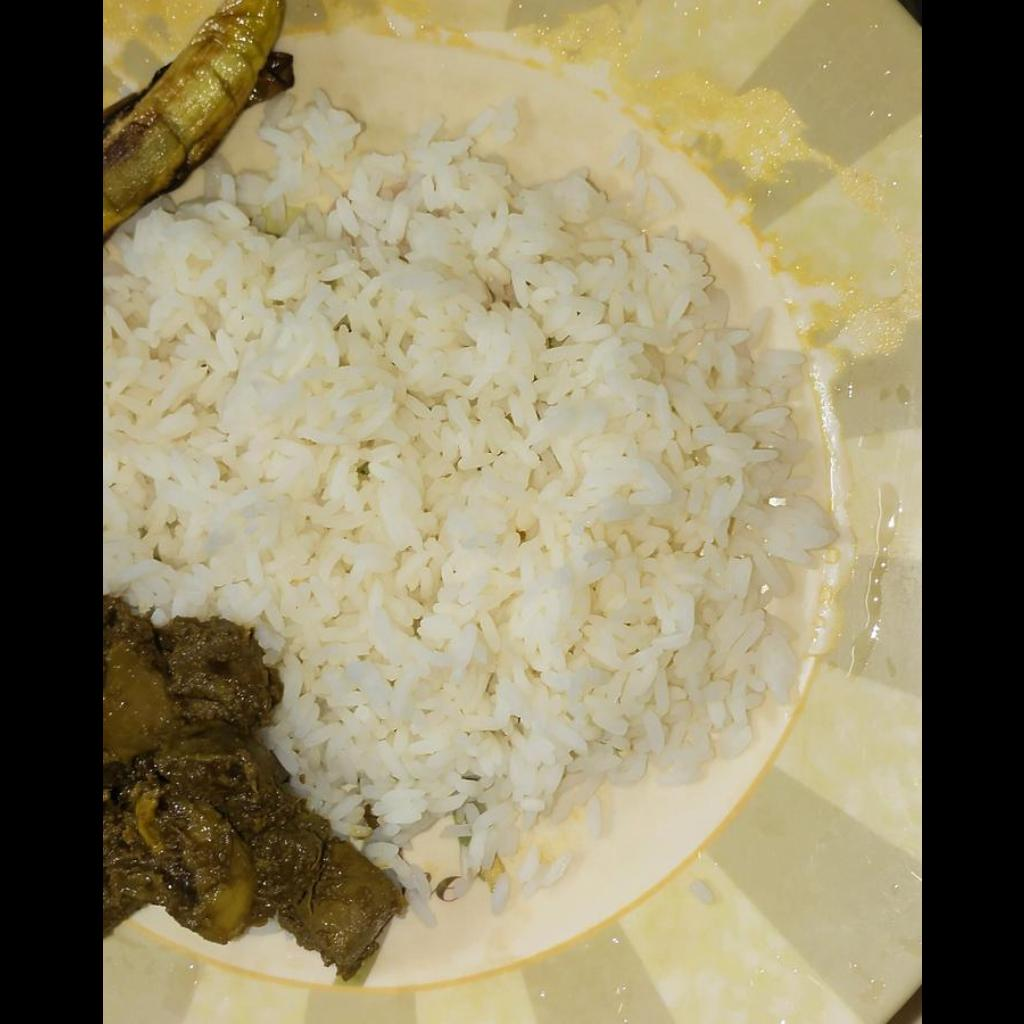beef: (102, 603, 404, 984)
potol: (103, 2, 295, 219)
rice: (102, 102, 836, 916)
